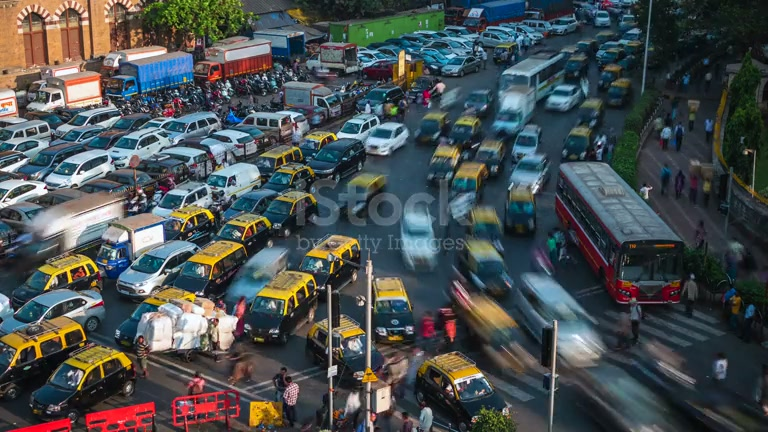bus: (554, 159, 687, 307), (499, 48, 569, 105), (399, 191, 444, 274)
car: (513, 271, 606, 370), (29, 343, 138, 422), (0, 316, 89, 401), (113, 293, 223, 360), (414, 350, 497, 426), (239, 269, 318, 346), (94, 211, 173, 281), (114, 238, 200, 300), (2, 287, 106, 336), (453, 237, 515, 300), (38, 148, 114, 190), (370, 276, 417, 343), (214, 212, 274, 257), (304, 138, 368, 179), (363, 121, 409, 157)
pedestrian: (628, 300, 642, 343)
